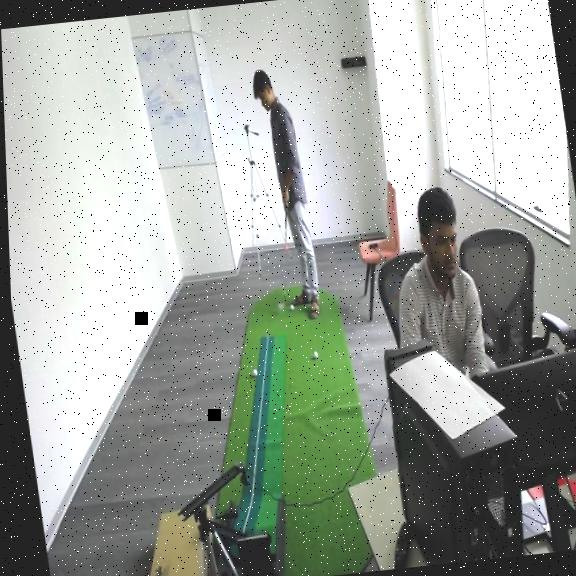ClubHead: (265, 279, 290, 314)
GolfBall: (304, 342, 319, 365), (282, 297, 296, 314), (245, 364, 258, 380)
